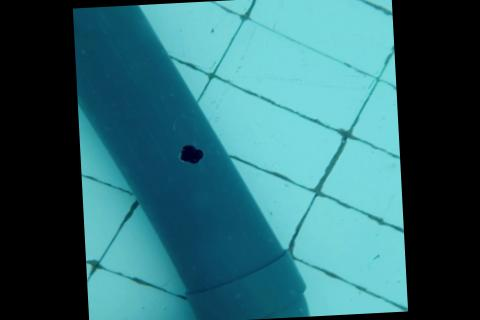kebocoran: (175, 142, 206, 167)
